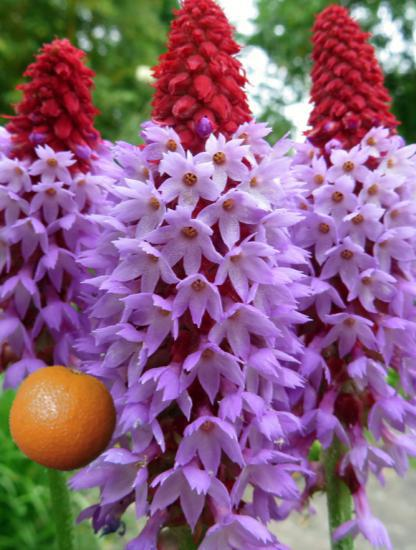Orange: (9, 365, 118, 474)
